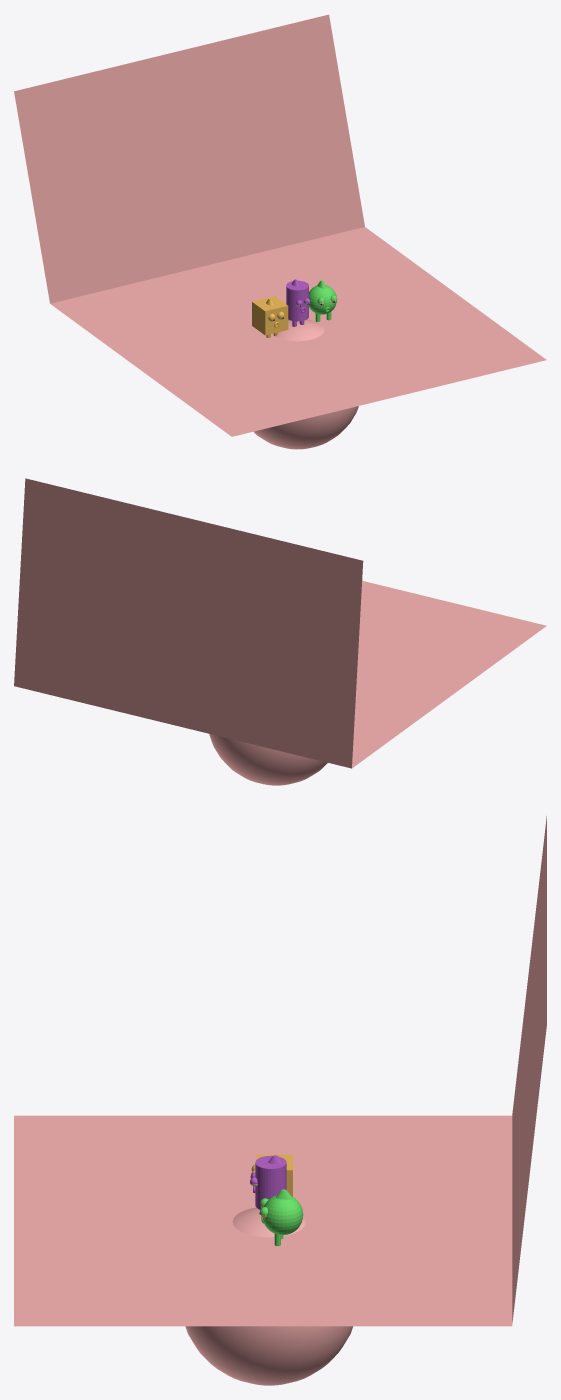
The model's file is 三兄弟over.glb.
3 renders of one model, top to bottom at view 1: azimuth 30°, elevation 25°; view 2: azimuth 150°, elevation 25°; view 3: azimuth 270°, elevation 25°, orthographic. The views are drawn at different scales.
Visible parts, largest first — view 1: 平面, 球体.019, 立方体, 柱体.004, 球体.006; view 2: 平面, 球体.019; view 3: 平面, 球体.019, 球体.006, 柱体.004.
Boxes of the visible parts, <box> form: 平面: <box>14,14,546,436</box>; 球体.019: <box>253,319,358,449</box>; 立方体: <box>252,296,288,335</box>; 柱体.004: <box>286,280,308,321</box>; 球体.006: <box>309,285,336,314</box>; 平面: <box>14,478,546,768</box>; 球体.019: <box>209,734,327,785</box>; 平面: <box>14,816,546,1326</box>; 球体.019: <box>185,1207,352,1385</box>; 球体.006: <box>262,1195,303,1235</box>; 柱体.004: <box>255,1156,286,1209</box>.
Size of the model in its own units: 43.12 by 39.25 by 42.96.
